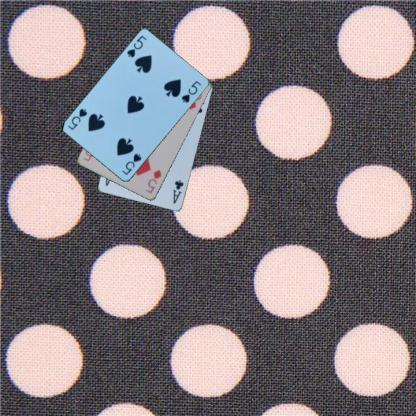5d: (143, 167, 163, 195)
5s: (119, 150, 143, 176), (124, 33, 148, 59)
Ac: (170, 177, 185, 205)
